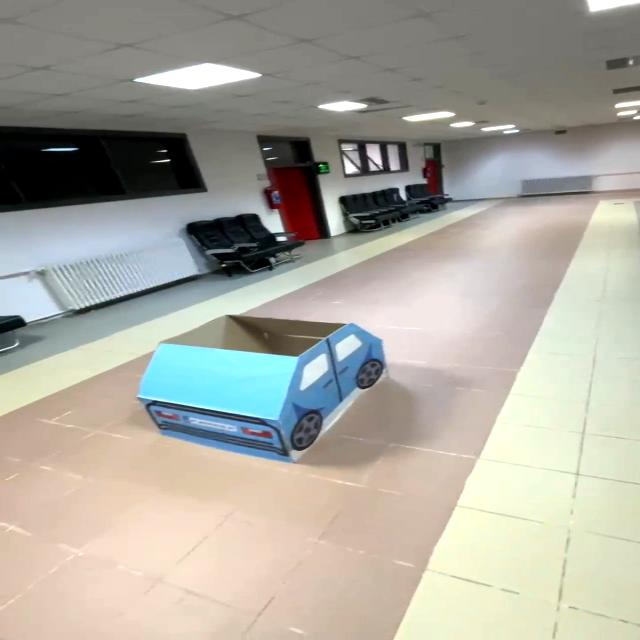blue_car: (98, 308, 402, 475)
